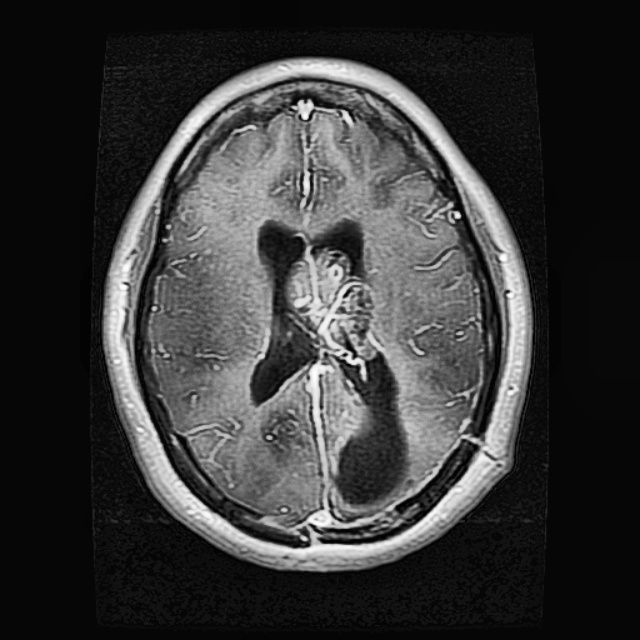Meningioma: (249, 224, 408, 505)
